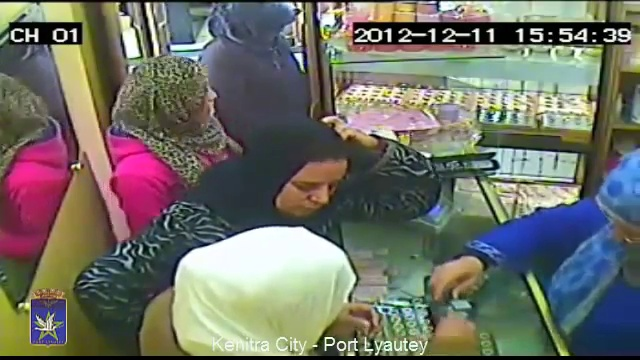face: (281, 164, 340, 223)
